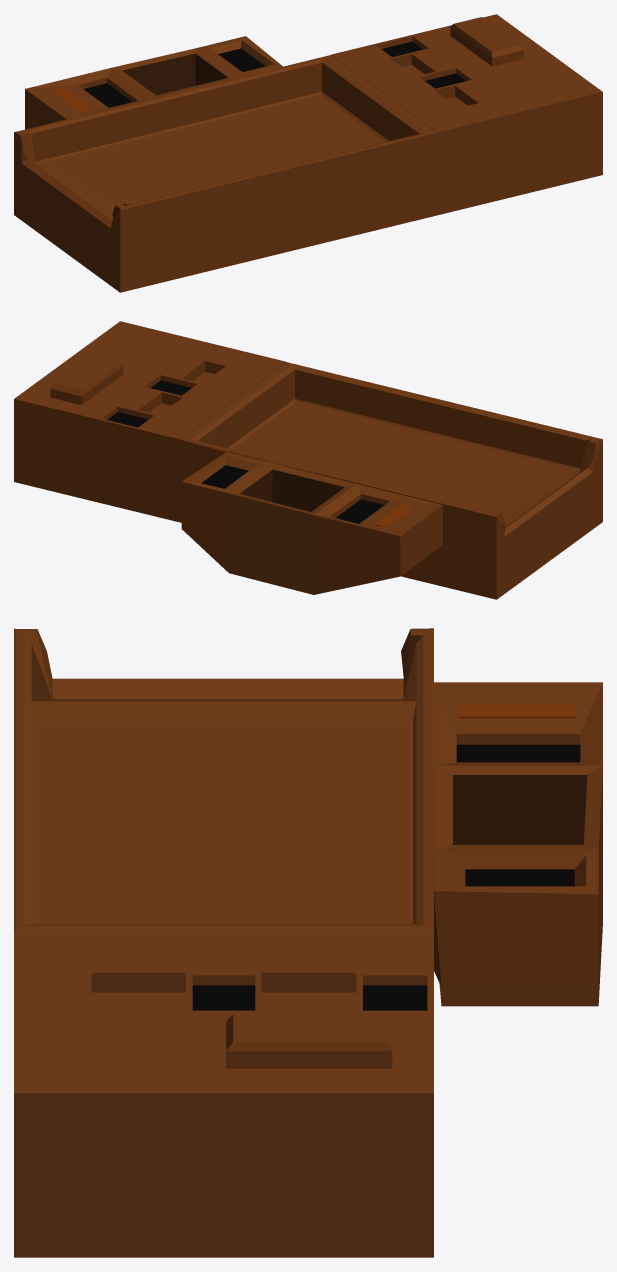
The model's file is DiceTray.fbx.
The picture shows the model from 3 angles, top to bottom: view 1: azimuth 30°, elevation 25°; view 2: azimuth 150°, elevation 25°; view 3: azimuth 270°, elevation 25°; orthographic projection. The views are drawn at different scales.
Parts seen in each view (by area): view 1: Tray; view 2: Tray; view 3: Tray.
Boxes of the visible parts, x1,y1,x2,y2 form: Tray: (14,14,602,292); Tray: (14,321,602,599); Tray: (14,628,602,1257).
Bounding box in the file's own units: 1164 × 221 × 623.
